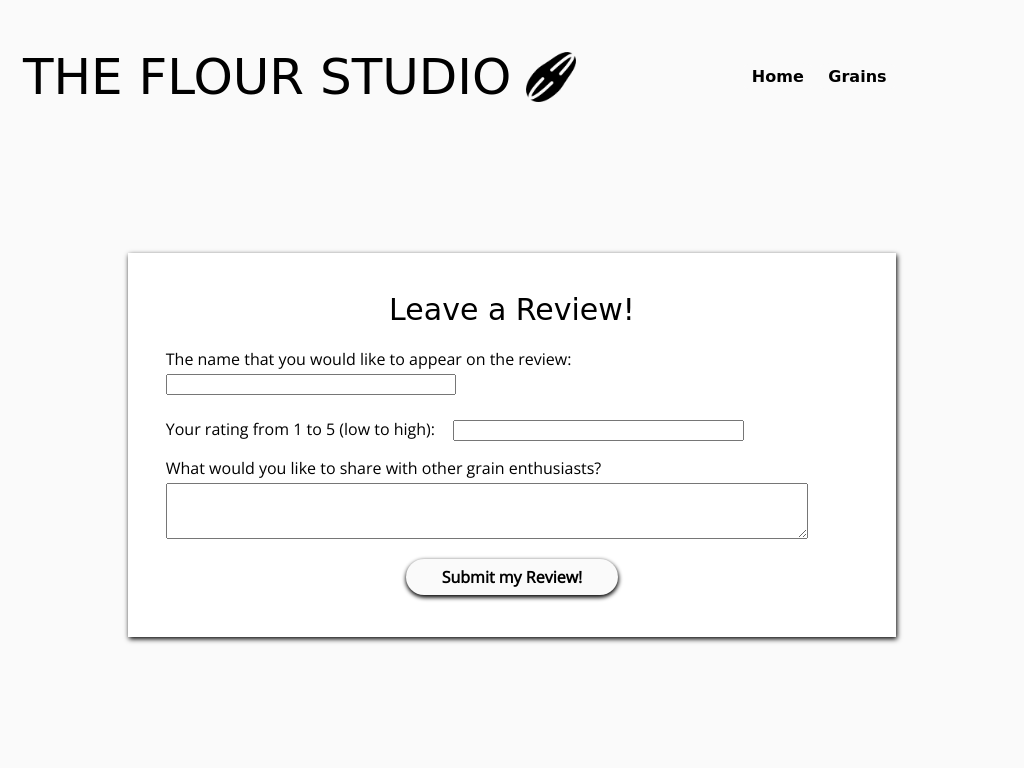
Test case: error handling throughout › should give a message to the user if the form is incomplete
(page scrolled)
In the 1st field with class "review-input": (312,385) top-left (166, 374), bottom-right (457, 395), type "Joan"
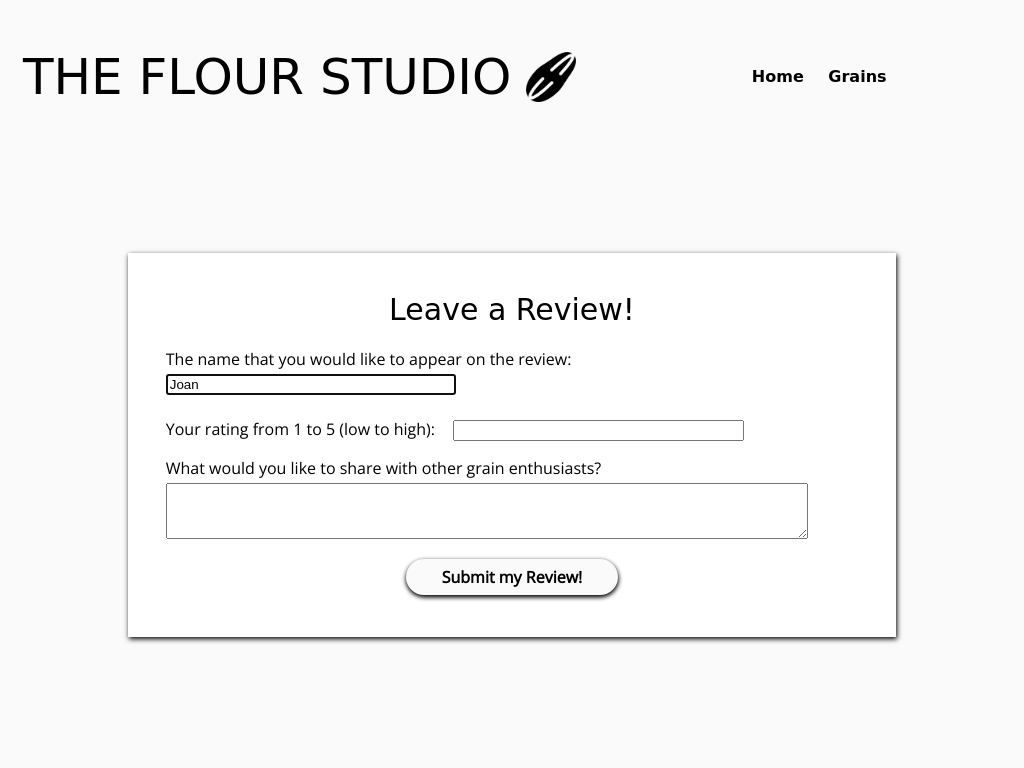
In the 2nd number field with class "review-input": (599,431) top-left (453, 420), bottom-right (744, 441), type "5"
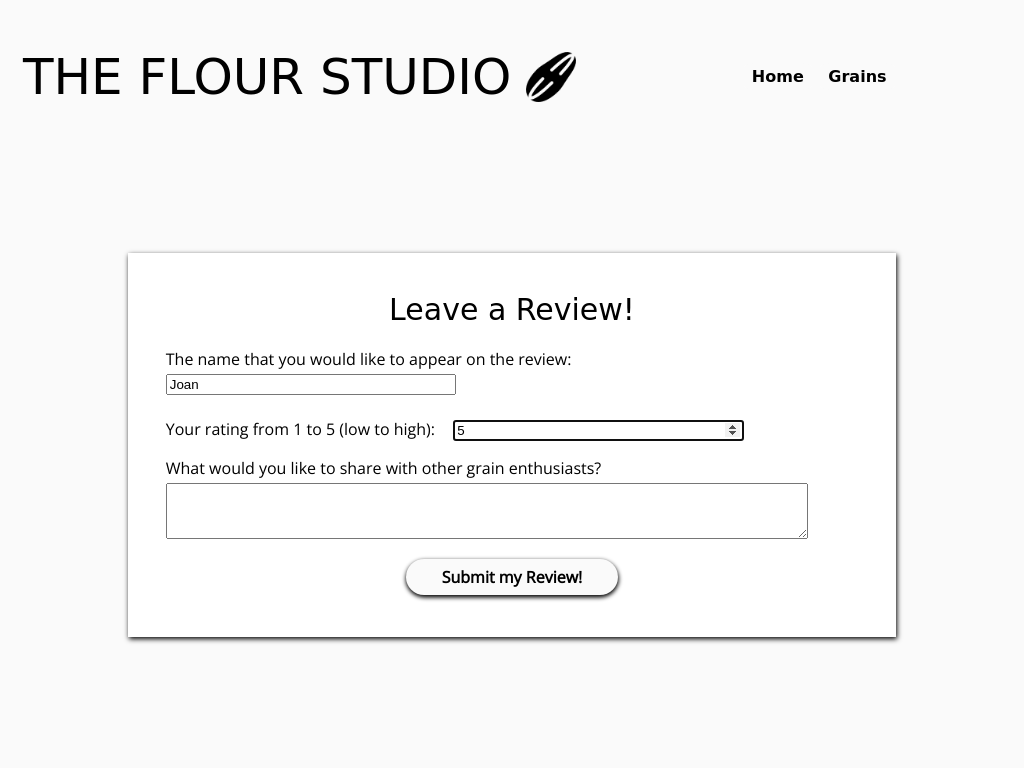
Click the button with class "review-form-button": (512,577) top-left (406, 559), bottom-right (617, 595)
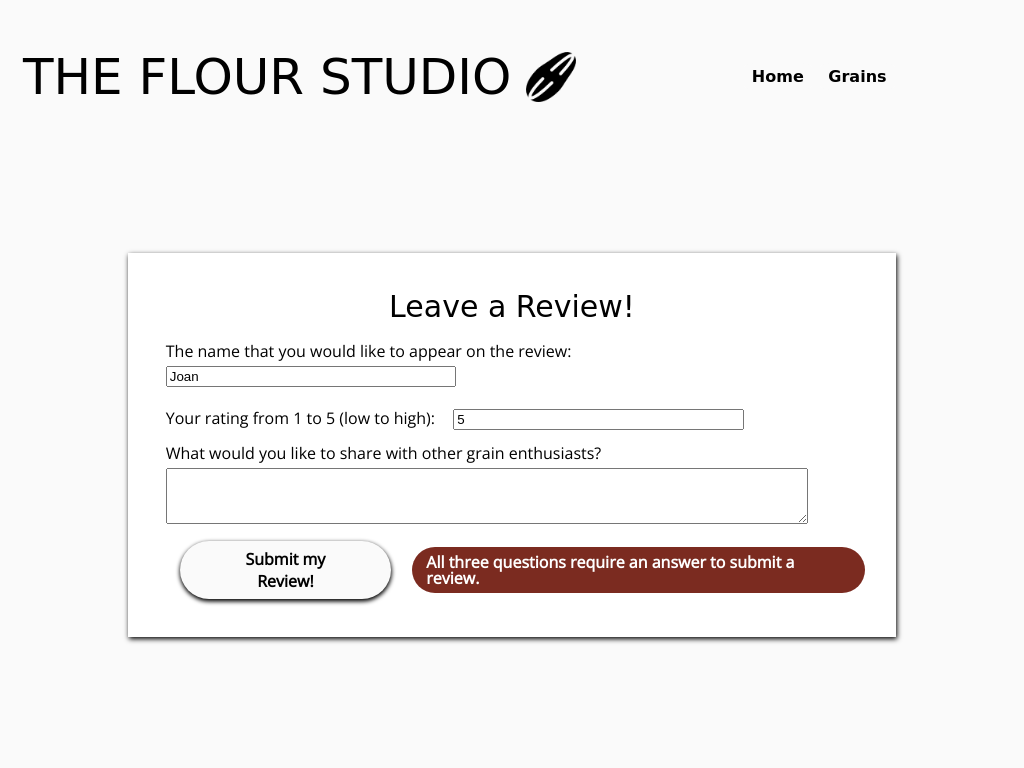
Expected: the text "All three questions require an answer to submit a review." is shown, top-left (412, 547), bottom-right (865, 593)
